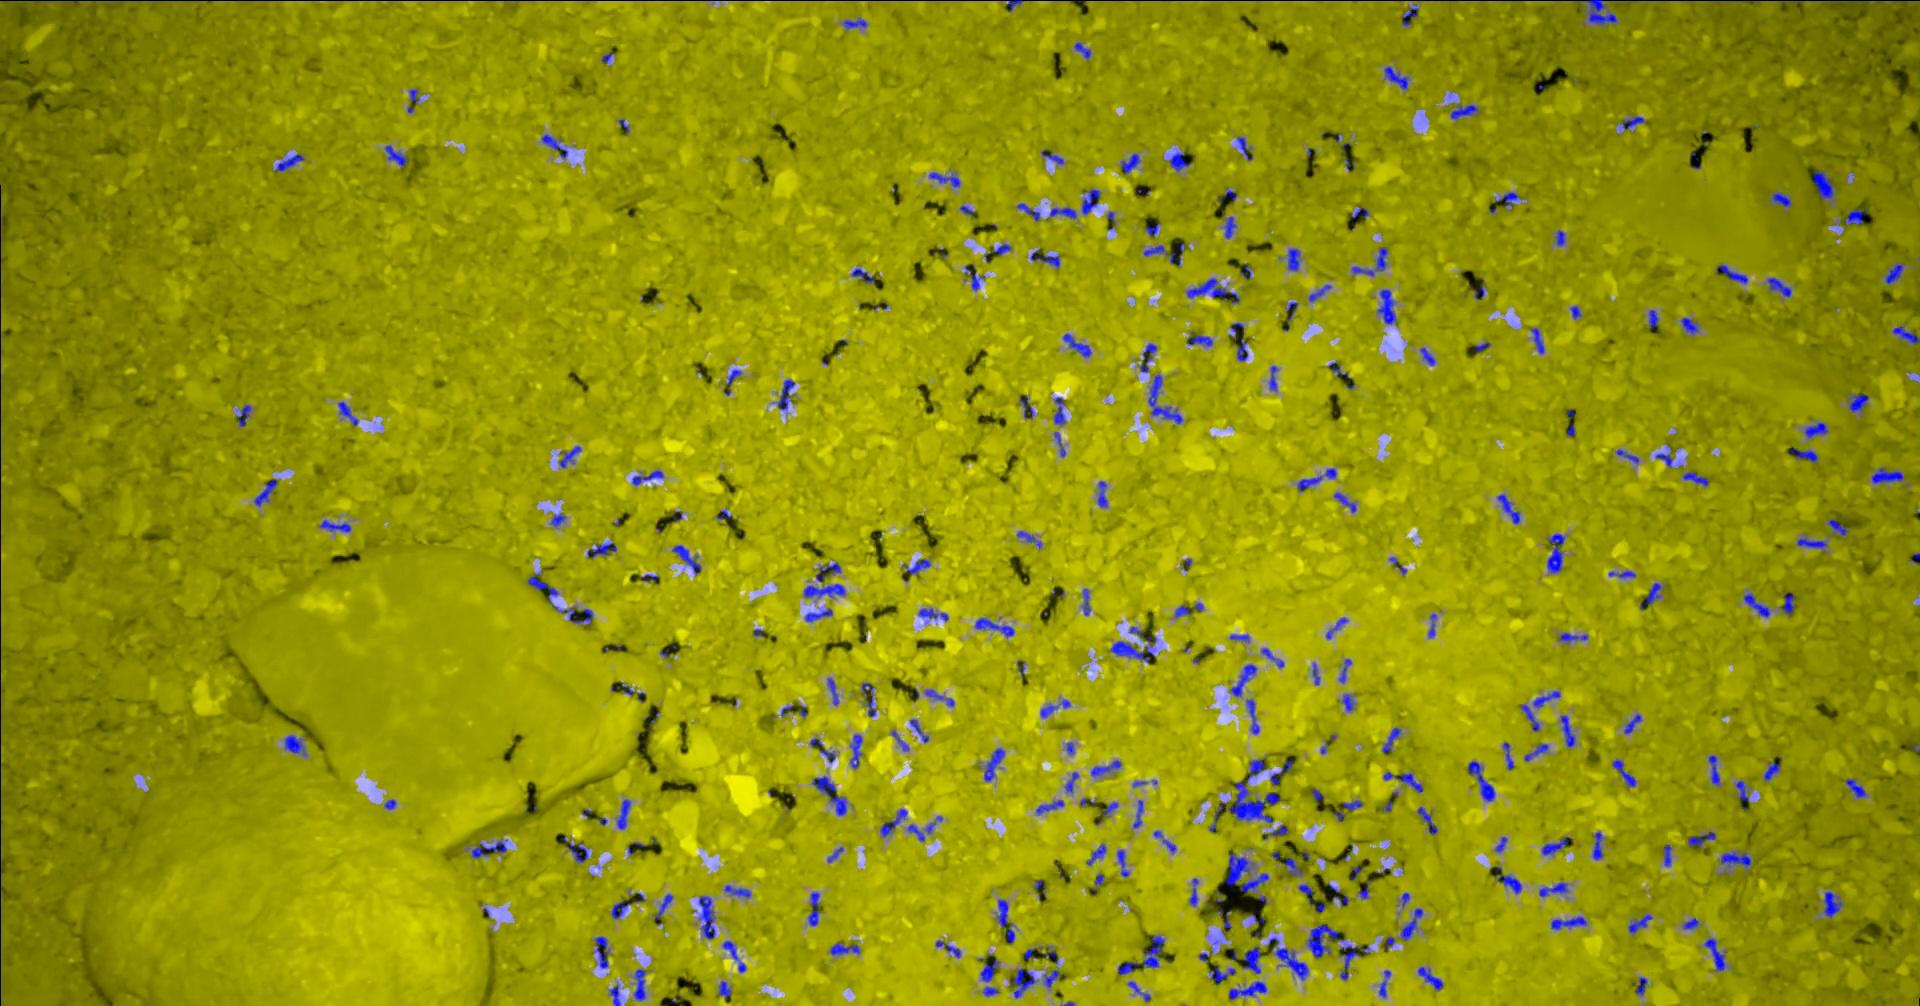ant: (1117, 935, 1164, 974), (1147, 373, 1182, 423), (1110, 626, 1156, 662), (1269, 937, 1307, 979), (1186, 277, 1238, 304), (811, 776, 846, 815), (1307, 923, 1343, 956), (1467, 761, 1495, 801), (527, 573, 557, 608), (1338, 945, 1369, 979), (1573, 0, 1617, 24), (1351, 246, 1387, 276), (1297, 467, 1336, 492), (907, 815, 942, 841), (670, 544, 700, 574), (1225, 851, 1250, 885), (996, 899, 1015, 942), (1010, 968, 1037, 997), (1230, 664, 1256, 696), (1383, 771, 1422, 791), (974, 617, 1013, 636), (1545, 533, 1564, 572), (1399, 908, 1422, 940), (983, 748, 1004, 781), (1495, 866, 1521, 893), (880, 808, 905, 836), (698, 895, 715, 937), (1229, 323, 1247, 361), (1228, 981, 1266, 998), (253, 478, 277, 506), (1611, 758, 1636, 786), (1704, 937, 1724, 970), (1062, 333, 1091, 356), (1496, 494, 1519, 523), (1377, 290, 1396, 324), (809, 737, 834, 762), (541, 133, 568, 158), (471, 840, 507, 857), (1812, 169, 1834, 198), (1383, 65, 1408, 89), (1743, 593, 1769, 617), (1716, 264, 1747, 283), (1416, 807, 1437, 835), (803, 583, 844, 597), (1029, 248, 1059, 267), (1417, 967, 1443, 989), (1639, 582, 1661, 608), (1542, 836, 1571, 855), (1239, 873, 1269, 892), (653, 894, 672, 923), (1269, 760, 1291, 784), (559, 607, 592, 624), (1040, 699, 1070, 716), (1519, 704, 1539, 730), (593, 936, 610, 968), (557, 445, 580, 467), (383, 145, 408, 166), (337, 401, 358, 426), (1892, 325, 1919, 344), (1823, 890, 1843, 917), (777, 379, 794, 409), (1870, 467, 1903, 483), (1719, 851, 1750, 868), (924, 688, 952, 706), (1531, 690, 1559, 708), (964, 265, 984, 290), (631, 470, 663, 485), (815, 561, 841, 580), (1090, 760, 1121, 775), (274, 154, 303, 170), (1139, 343, 1156, 372), (861, 682, 875, 716), (1244, 699, 1258, 733), (1327, 883, 1349, 904), (1787, 447, 1817, 462), (1333, 492, 1356, 512), (1324, 617, 1347, 638), (1260, 647, 1283, 667), (1559, 715, 1575, 746), (1538, 882, 1568, 897), (1128, 981, 1150, 1001), (1688, 831, 1716, 847), (1208, 965, 1236, 982), (1081, 189, 1100, 213), (909, 718, 928, 742), (1016, 530, 1041, 547), (1382, 727, 1399, 752), (1550, 916, 1586, 929), (935, 939, 960, 956), (587, 542, 616, 558), (1839, 207, 1865, 224), (1243, 946, 1260, 973), (284, 734, 306, 754), (1016, 202, 1039, 221), (1164, 243, 1183, 265), (1768, 277, 1790, 296), (850, 734, 862, 768), (1524, 743, 1548, 761), (1627, 915, 1651, 932), (980, 956, 998, 981), (928, 171, 959, 185), (1175, 602, 1203, 617), (616, 799, 630, 829), (1035, 799, 1063, 814), (1120, 152, 1140, 173), (1735, 780, 1749, 809), (1450, 104, 1477, 119), (1529, 326, 1544, 353), (632, 968, 645, 1000), (1236, 136, 1252, 160), (851, 268, 875, 285), (905, 558, 930, 574), (1170, 152, 1190, 171), (1848, 392, 1868, 412), (1707, 754, 1719, 785), (568, 842, 587, 862), (1086, 843, 1105, 864), (1884, 263, 1902, 285), (1328, 361, 1350, 379), (1401, 3, 1417, 25), (1495, 191, 1517, 207), (1308, 285, 1331, 301), (1779, 592, 1796, 615), (808, 892, 819, 925), (918, 608, 947, 621), (829, 942, 858, 955), (1803, 422, 1827, 437), (319, 520, 350, 531), (1655, 447, 1672, 467), (1623, 713, 1641, 733), (1845, 779, 1865, 796), (1619, 116, 1644, 130), (1683, 471, 1708, 485), (804, 608, 832, 621), (1018, 395, 1034, 418), (1049, 206, 1076, 218), (1053, 398, 1065, 424), (1283, 857, 1302, 875), (724, 884, 750, 897), (1378, 970, 1390, 997), (235, 405, 251, 426), (1827, 518, 1848, 535), (1041, 149, 1063, 164), (1617, 448, 1638, 464), (1053, 431, 1065, 456), (1116, 848, 1128, 876), (611, 901, 629, 918), (891, 730, 908, 749), (1763, 761, 1779, 780), (723, 940, 738, 960), (842, 17, 866, 29), (1338, 658, 1351, 682), (827, 677, 838, 704), (1064, 771, 1078, 793), (1217, 909, 1230, 931), (1680, 318, 1698, 334), (1043, 969, 1059, 987), (1186, 334, 1211, 345), (1131, 799, 1142, 827), (1592, 831, 1603, 859), (1796, 539, 1827, 547), (1073, 42, 1090, 58), (1420, 347, 1435, 365), (1502, 742, 1512, 768), (1100, 801, 1117, 817), (1298, 884, 1313, 902), (1771, 192, 1790, 206), (1288, 248, 1299, 271), (1559, 633, 1587, 641), (1189, 878, 1197, 906), (1224, 216, 1236, 238), (1143, 244, 1164, 255), (1097, 481, 1107, 506), (726, 370, 742, 385), (992, 243, 1010, 255), (1269, 365, 1277, 390), (717, 981, 730, 998), (550, 512, 564, 527), (1342, 800, 1363, 810), (610, 984, 620, 1005), (1082, 588, 1090, 615), (1341, 694, 1352, 711), (1636, 977, 1647, 995), (1608, 570, 1636, 577), (1429, 614, 1436, 636), (1663, 843, 1671, 866), (1683, 917, 1698, 929), (1288, 301, 1297, 320), (1269, 826, 1288, 835), (982, 986, 998, 996), (1648, 309, 1657, 326), (1556, 230, 1564, 245)
